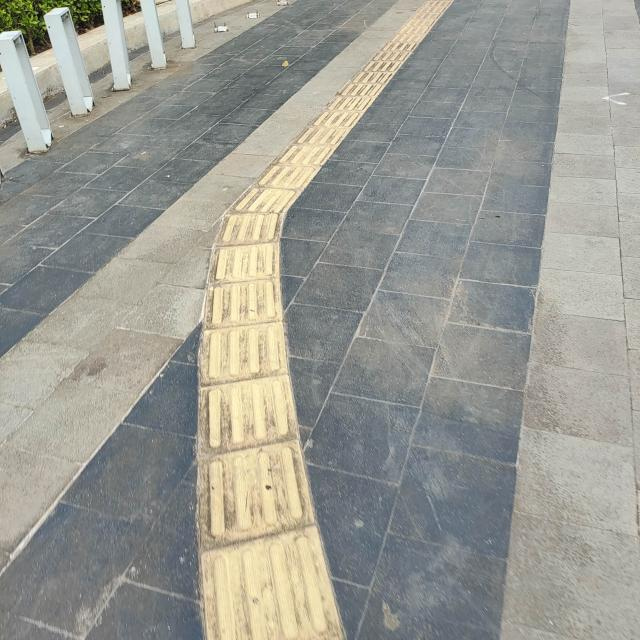lurus: (188, 221, 316, 640)
